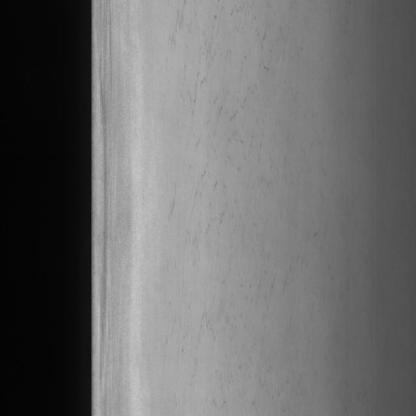silk_spot: (162, 6, 289, 385)
